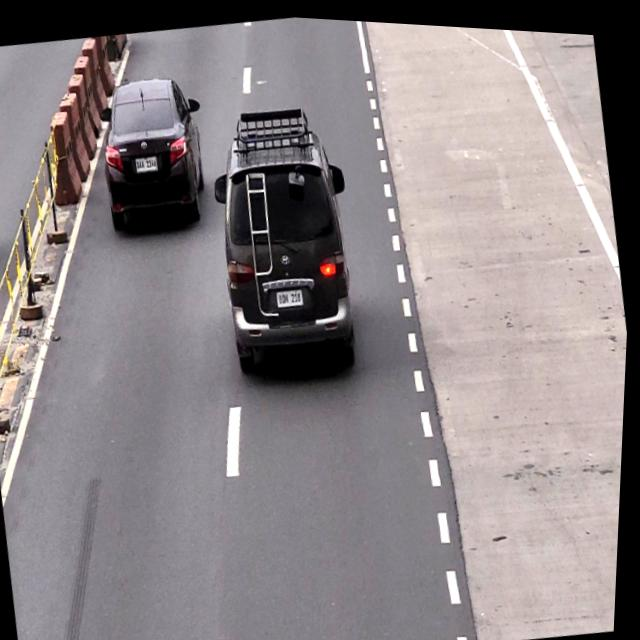Car: (203, 96, 368, 376), (89, 68, 216, 234)
License-Plate: (277, 280, 310, 312), (134, 152, 162, 174)
